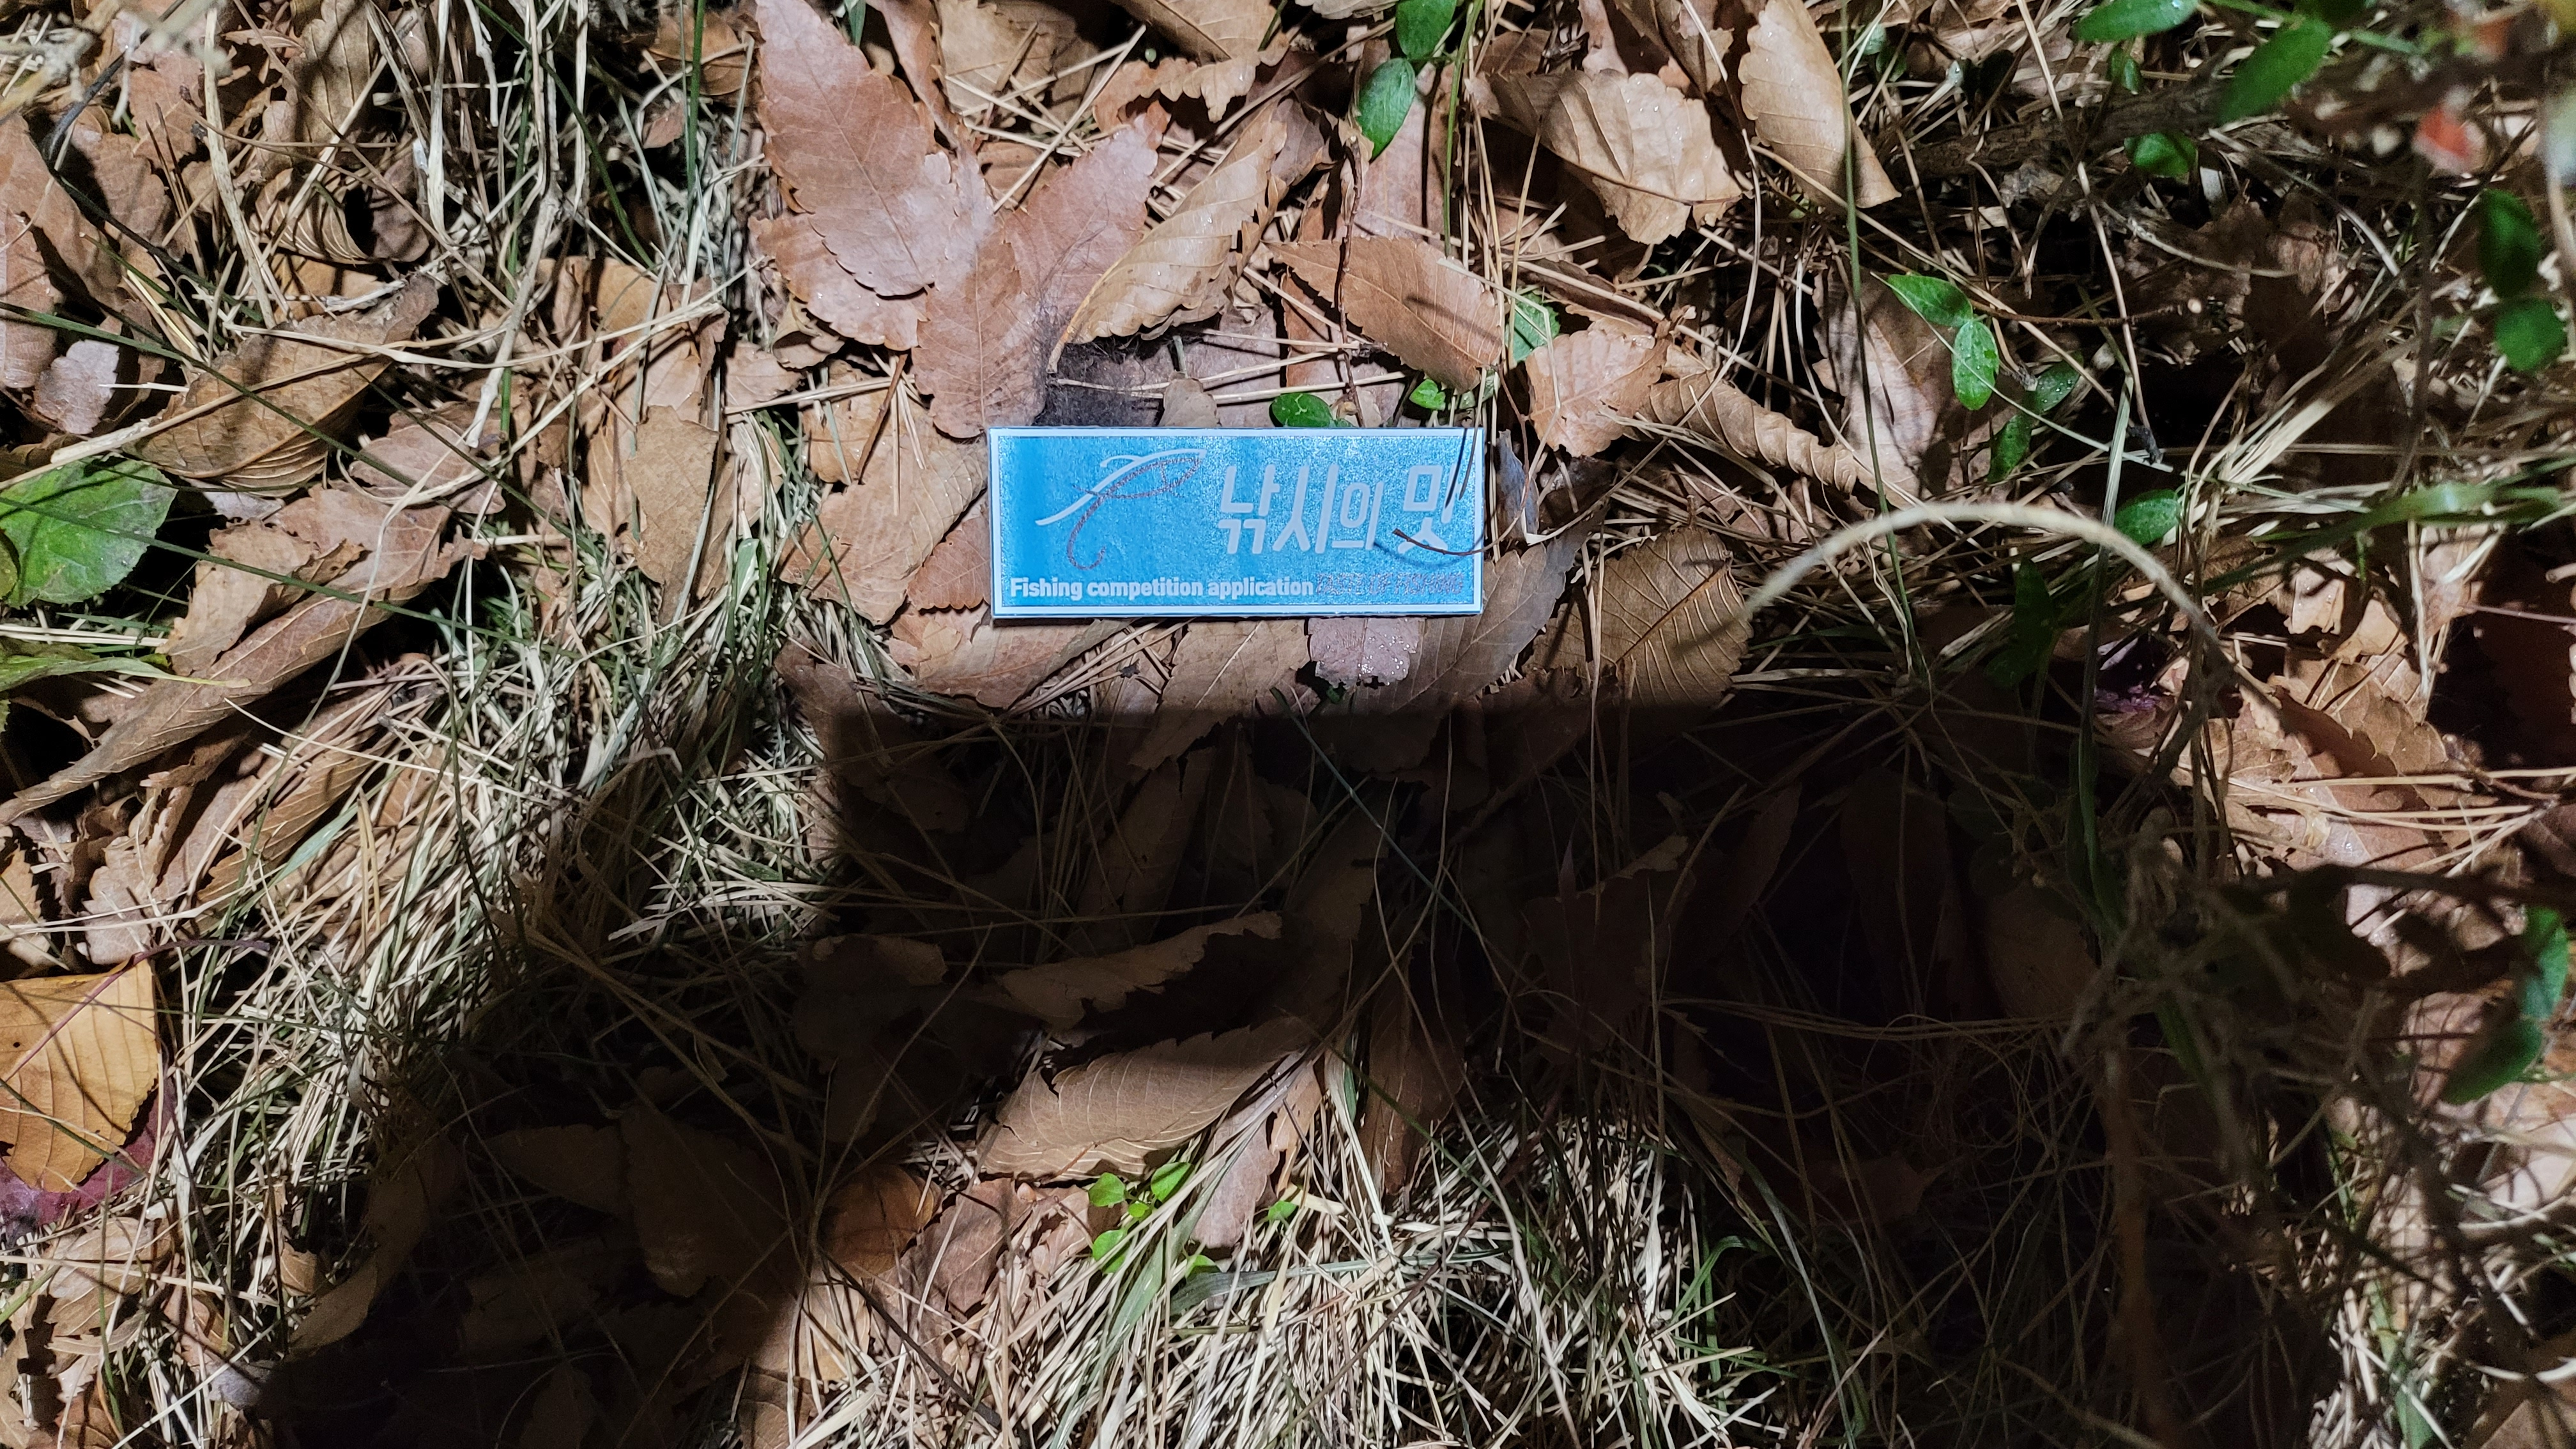tag: (987, 428, 1484, 616)
